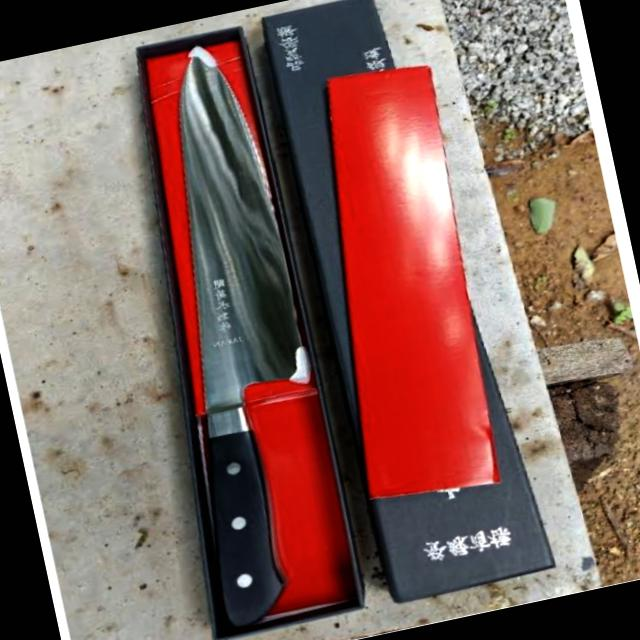knife: (84, 29, 388, 640)
